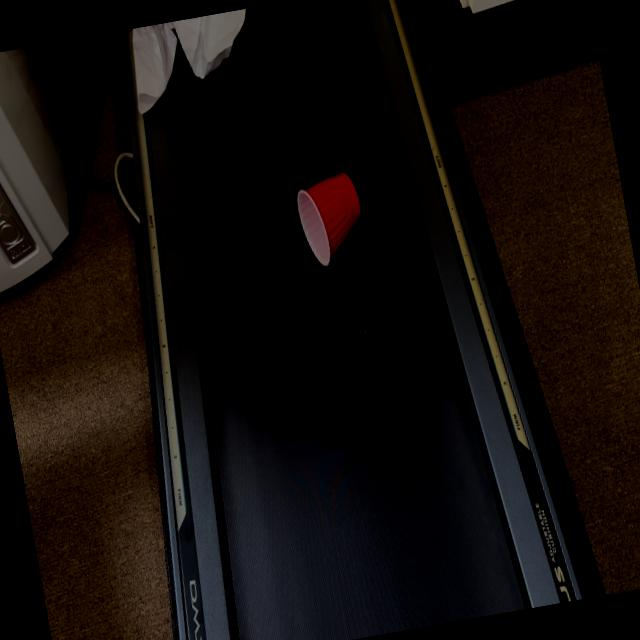Recycle: (290, 168, 372, 270)
